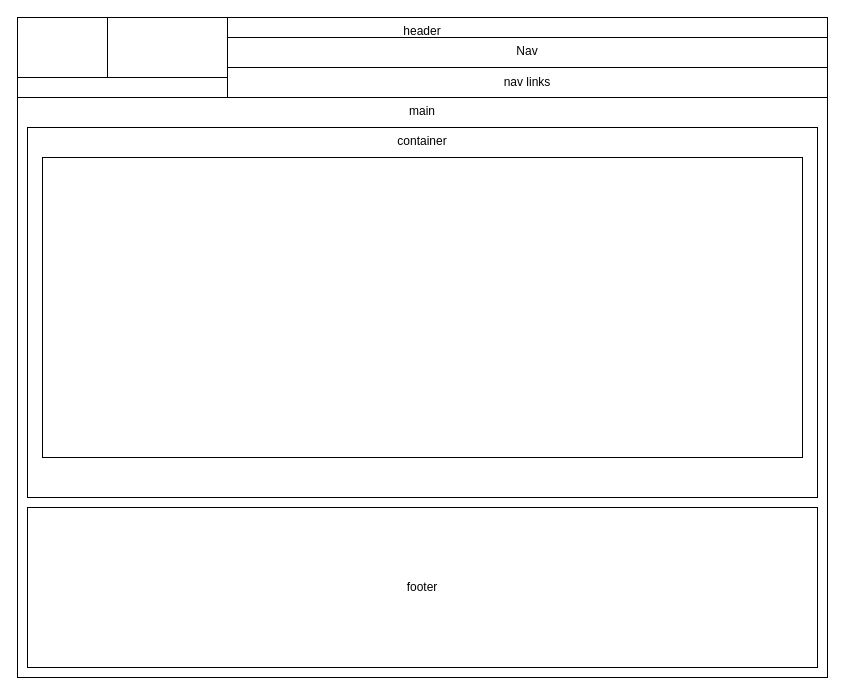
The diagram is 845 pixels wide and 695 high, and some of its shapes have lost their labels. Here are the shapes that lost their labels. From the top down, the centre of each, then its label:
At (62,47): "pic".
At (167,47): "Name".
At (422,307): "main content".
